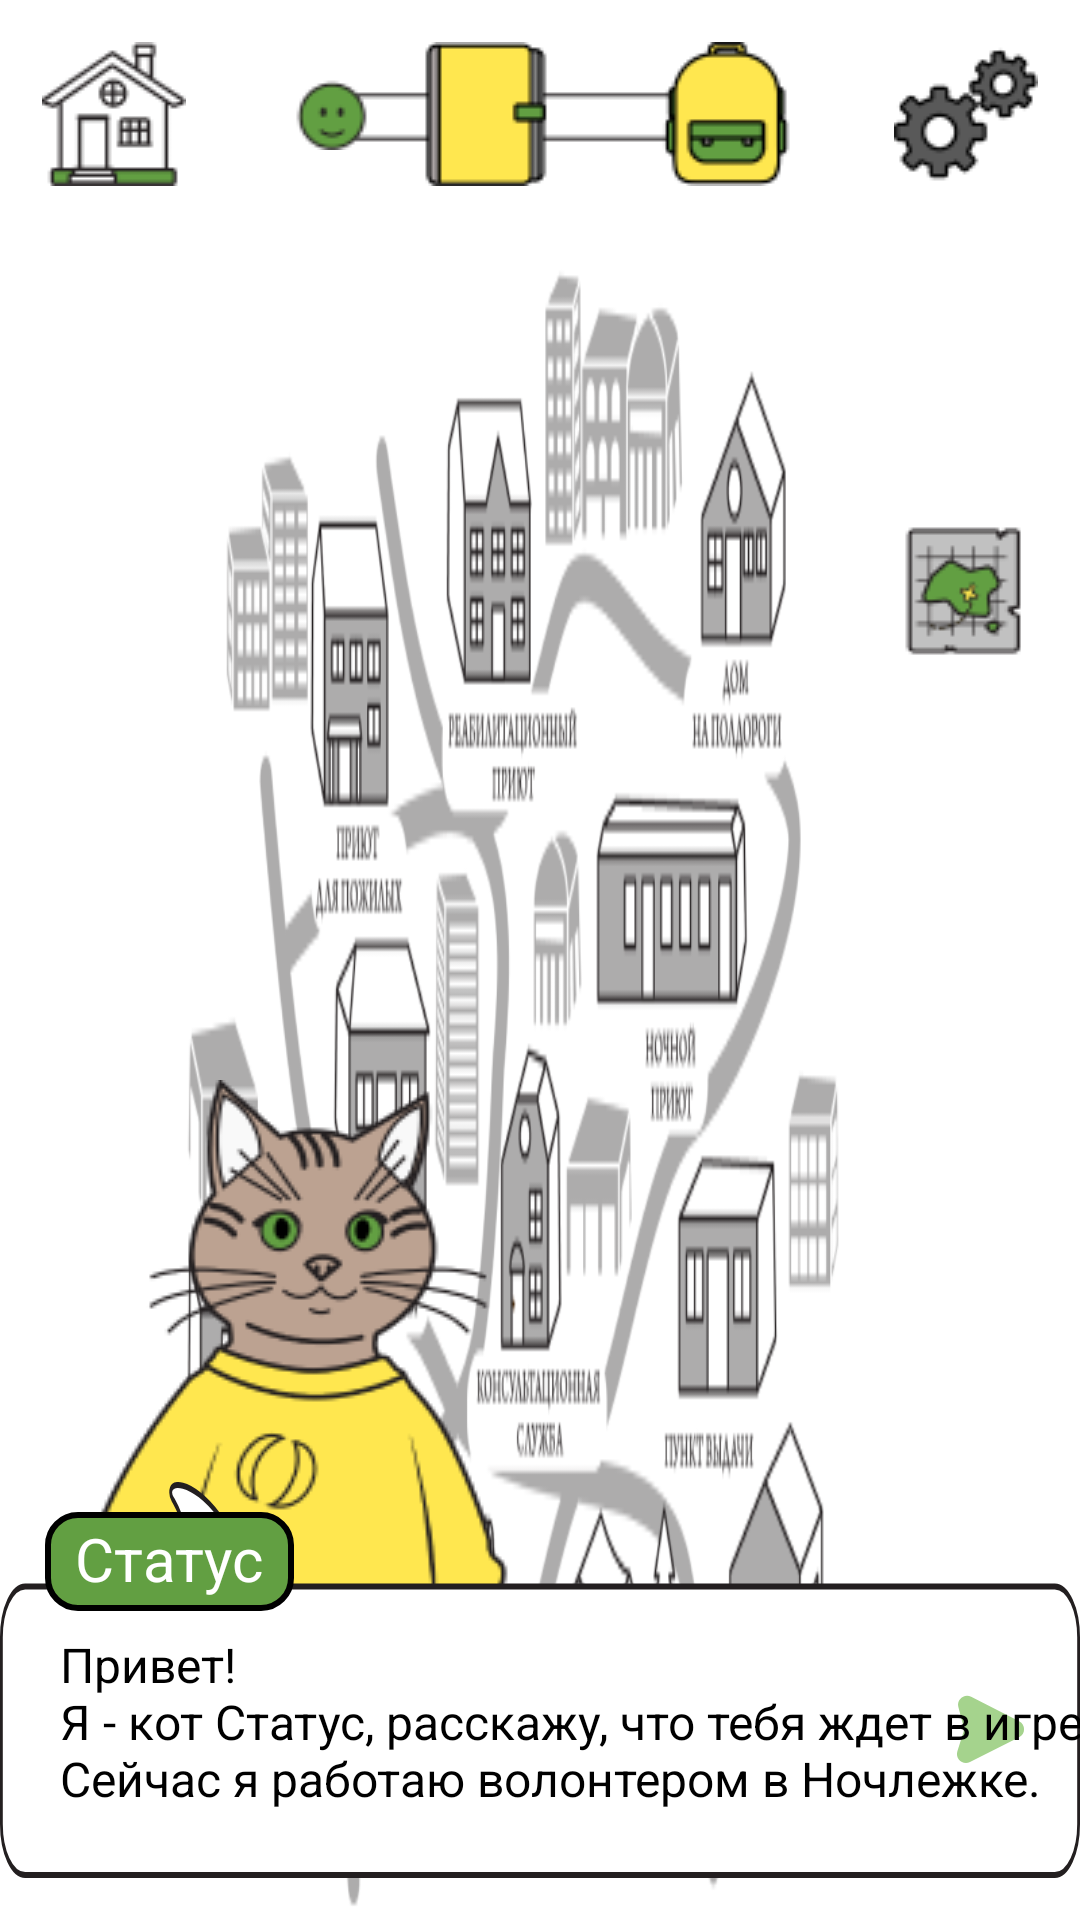

Where icons sit on this 1080w x 1920h app screen, as bbox(x1, y1, x2, y2):
backpack: bbox(654, 42, 789, 186)
gear wheel: bbox(894, 50, 1038, 180)
home: bbox(42, 42, 186, 186)
map: bbox(905, 527, 1021, 655)
